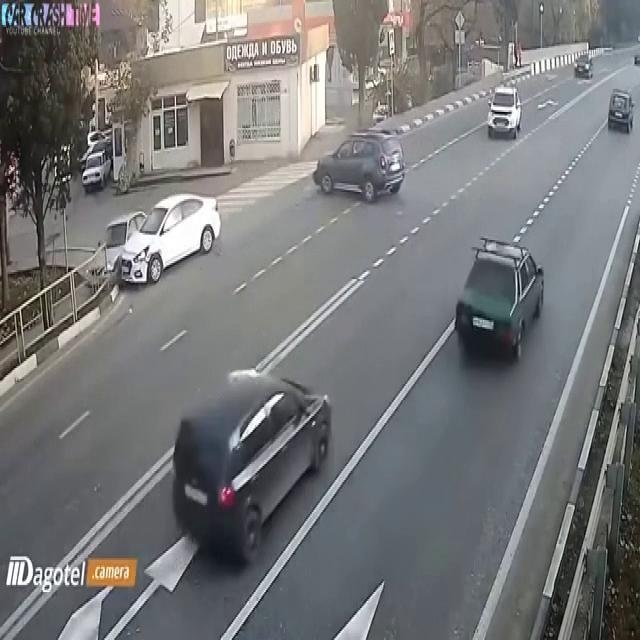accident: (89, 196, 180, 299)
